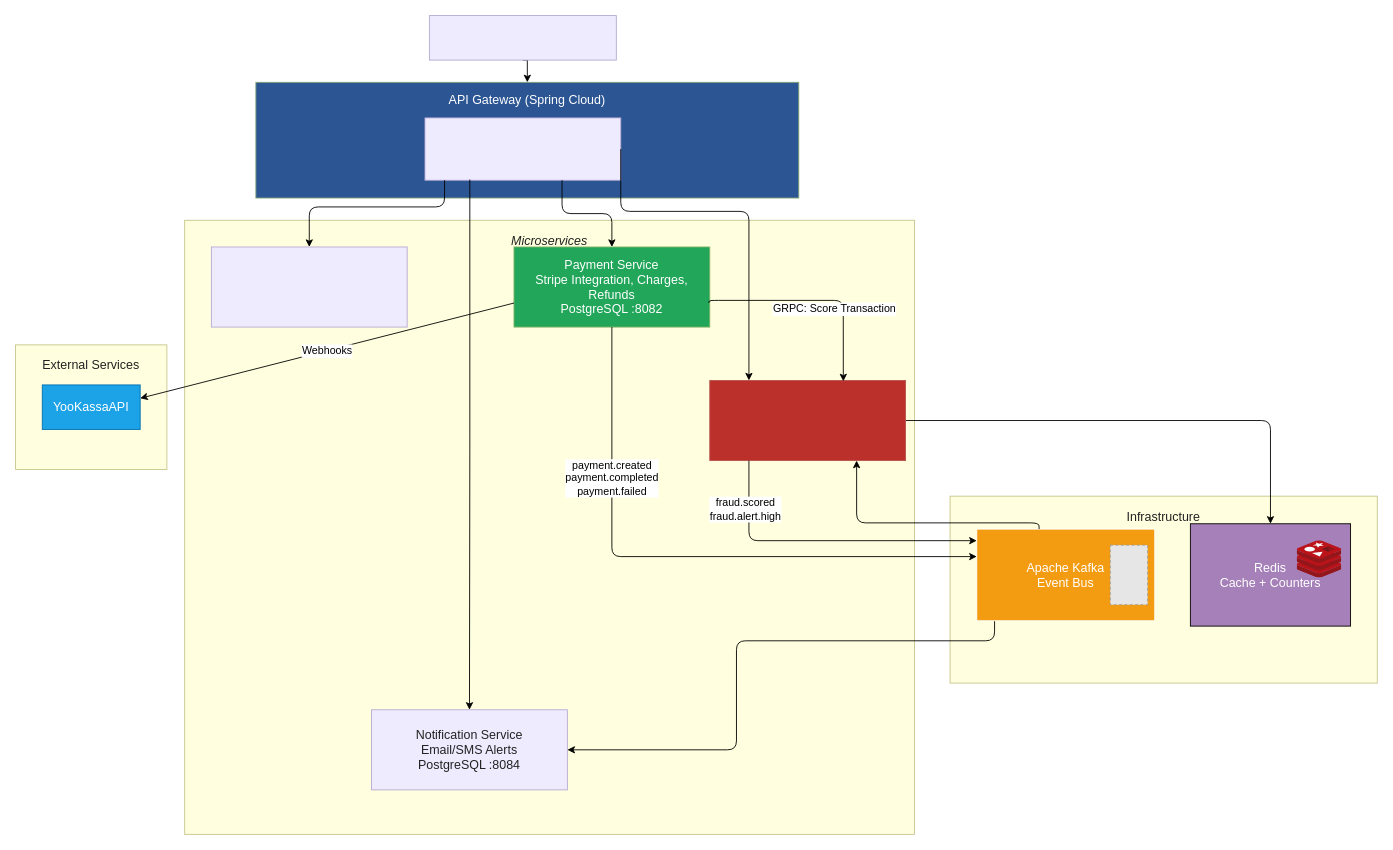
The diagram is 1393 pixels wide and 850 high, and some of its shapes have lost their labels. Grey dashed boxes stand in for pictures. Here are the shapes that lost their labels. From the top down, the centre of each, then its label:
pixel 522 37: Client
pixel 522 148: Routing · Rate Limiting · JWT Validation
pixel 308 286: User Service Registration, Auth, RBAC PostgreSQL :8081
pixel 807 420: Fraud Engine ML Scoring, Rule Fallback Redis + PostgreSQL :8083
